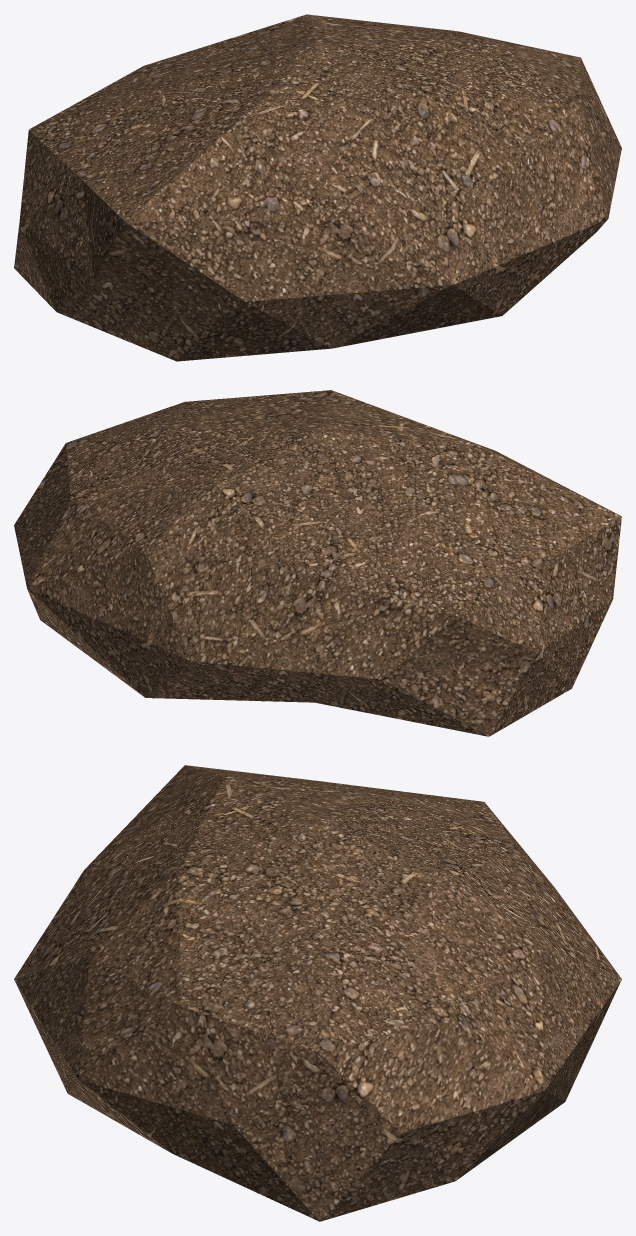
Rendered from Rock_02.fbx.
3 views of the same model, one above another, from view 1: azimuth 30°, elevation 25°; view 2: azimuth 150°, elevation 25°; view 3: azimuth 270°, elevation 25° (orthographic). The views are drawn at different scales.
Visible parts, largest first — view 1: HW_Rock_02_Export; view 2: HW_Rock_02_Export; view 3: HW_Rock_02_Export.
Boxes of the visible parts, x1,y1,x2,y2 form: HW_Rock_02_Export: (14,14,621,361); HW_Rock_02_Export: (14,390,621,736); HW_Rock_02_Export: (14,765,621,1221).
Bounding box in the file's own units: 145 × 54.2 × 124.
Materials: 1 (1 with a texture image).
